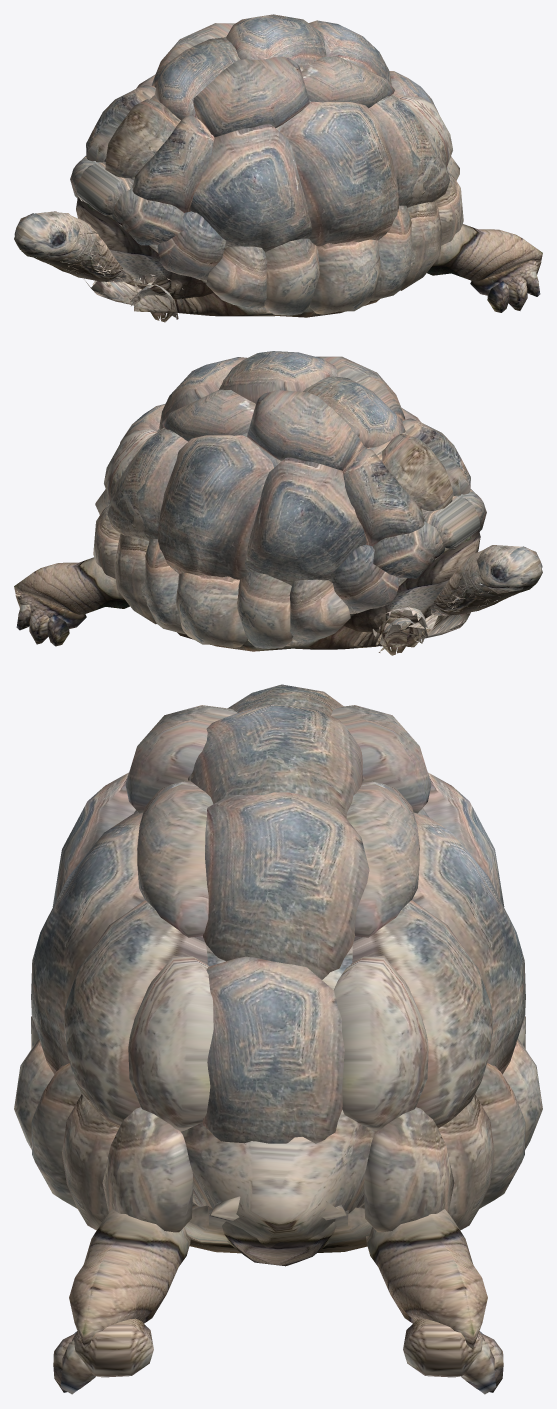
The model's file is tortuga_cuerpo.obj.
3 views of the same model, one above another, from view 1: azimuth 30°, elevation 25°; view 2: azimuth 150°, elevation 25°; view 3: azimuth 270°, elevation 25° (orthographic). The views are drawn at different scales.
Parts seen in each view (by area): view 1: tortuga_cuerpo; view 2: tortuga_cuerpo; view 3: tortuga_cuerpo.
Boxes of the visible parts, x1=… form: tortuga_cuerpo: x1=14, y1=14, x2=542, y2=322; tortuga_cuerpo: x1=14, y1=351, x2=542, y2=655; tortuga_cuerpo: x1=14, y1=684, x2=542, y2=1394.
Size of the model in its own units: 1.51 by 0.883 by 0.8271.
1 material, 1 textured.
